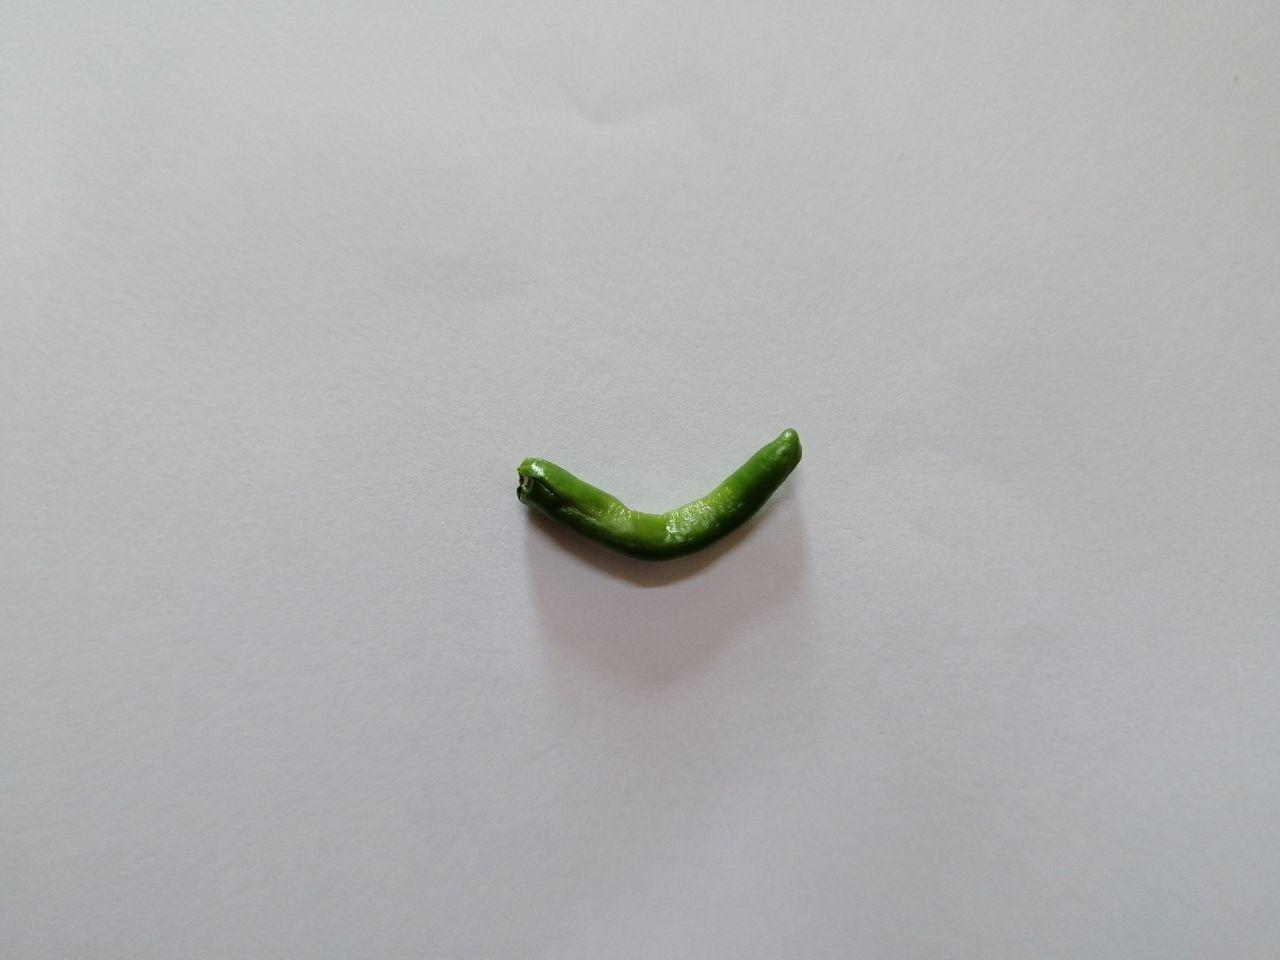lada hijau: (474, 405, 822, 589)
